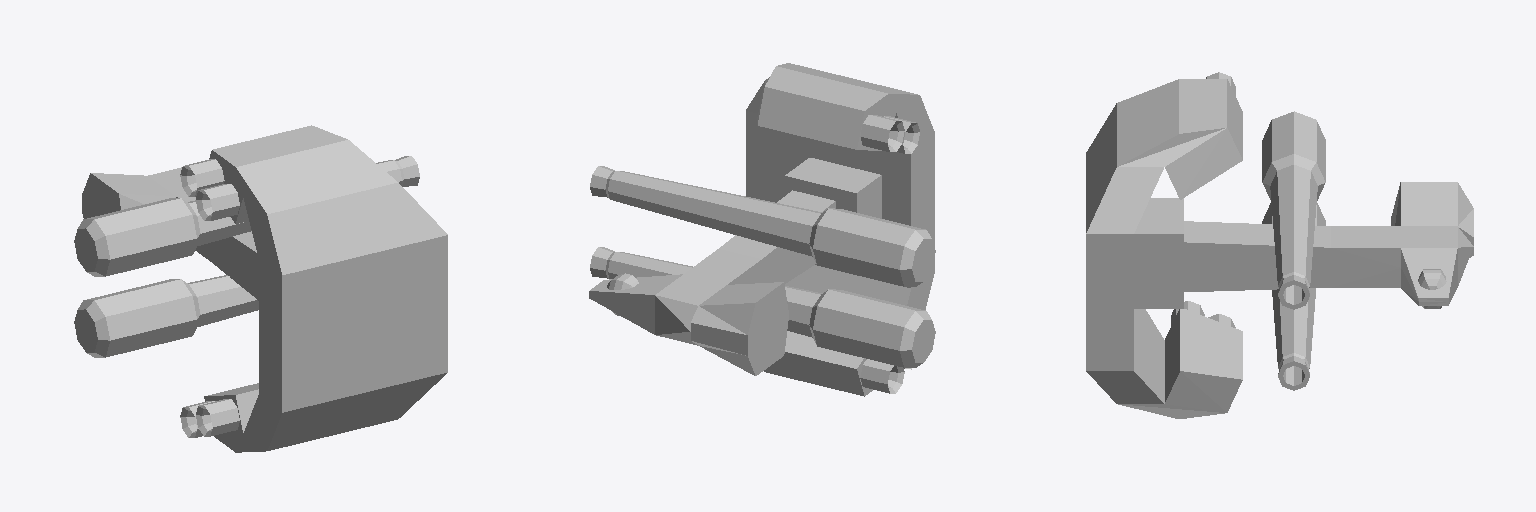
Rendered from pintle.obj.
The picture shows the model from 3 angles: view 1: azimuth 30°, elevation 25°; view 2: azimuth 150°, elevation 25°; view 3: azimuth 270°, elevation 25°; orthographic projection.
Visible parts, largest first — view 1: main_Cube; view 2: main_Cube; view 3: main_Cube.
Part boxes in pixels (x1,y1,x2,y2): main_Cube: (74,125,447,452); main_Cube: (589,63,935,396); main_Cube: (1086,72,1473,418).
Bounding box in the file's own units: 4.96 × 4.16 × 5.12.